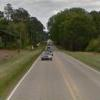Car: (37, 43, 55, 64)
